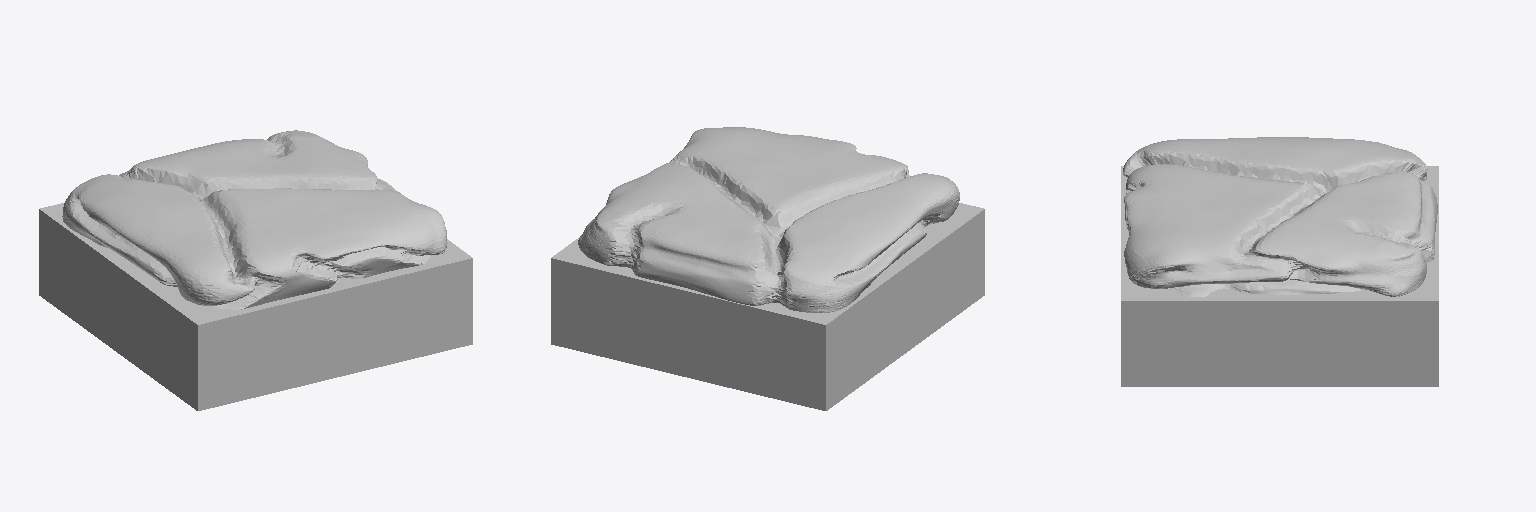
File: floor.obj
3 renders of one model, left to right at view 1: azimuth 30°, elevation 25°; view 2: azimuth 150°, elevation 25°; view 3: azimuth 270°, elevation 25°, orthographic.
Visible parts, largest first — view 1: ruin_floor_1x1_mat; view 2: ruin_floor_1x1_mat; view 3: ruin_floor_1x1_mat.
Part boxes in pixels (bbox=[...]): ruin_floor_1x1_mat: bbox=[39, 130, 472, 410]; ruin_floor_1x1_mat: bbox=[551, 127, 984, 410]; ruin_floor_1x1_mat: bbox=[1121, 137, 1438, 386].
Bounding box in the file's own units: 1 × 0.4432 × 1.